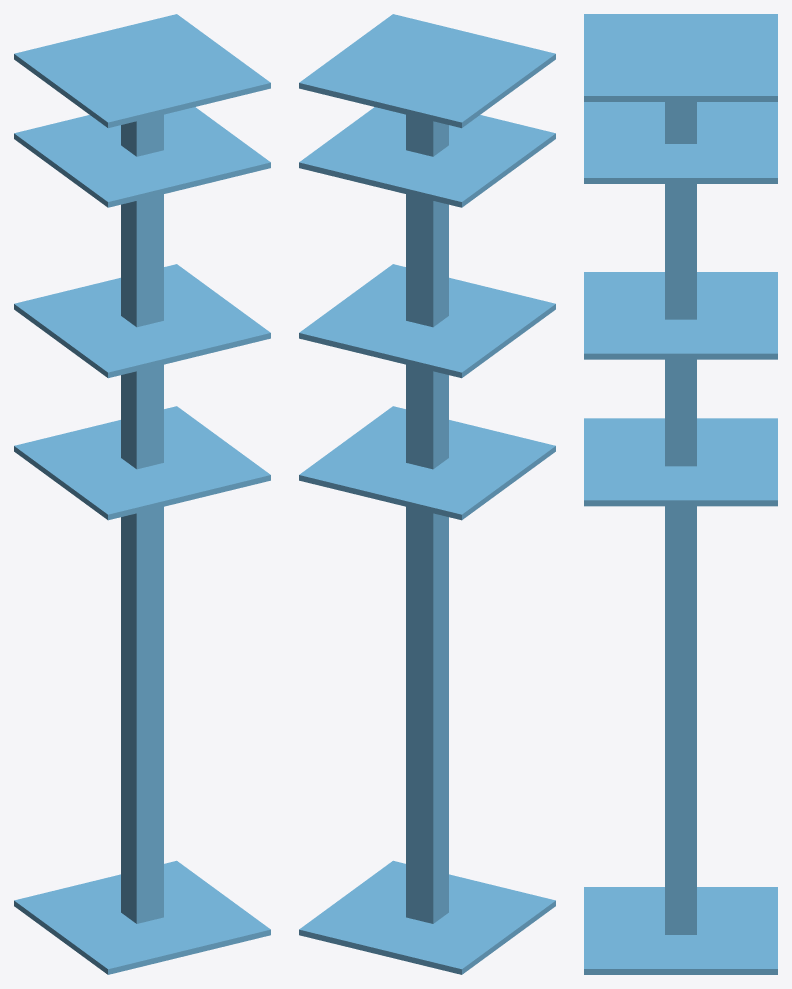
File: storey_3m.glb
3 views of the same model, side by side, from view 1: azimuth 30°, elevation 25°; view 2: azimuth 150°, elevation 25°; view 3: azimuth 270°, elevation 25° (orthographic). The views are drawn at different scales.
Parts seen in each view (by area): view 1: storey_3m; view 2: storey_3m; view 3: storey_3m.
Part boxes in pixels (x1=…): storey_3m: x1=14, y1=14, x2=270, y2=974; storey_3m: x1=299, y1=14, x2=555, y2=974; storey_3m: x1=584, y1=14, x2=777, y2=974.
Size of the model in its own units: 0.6 by 3 by 0.6.
